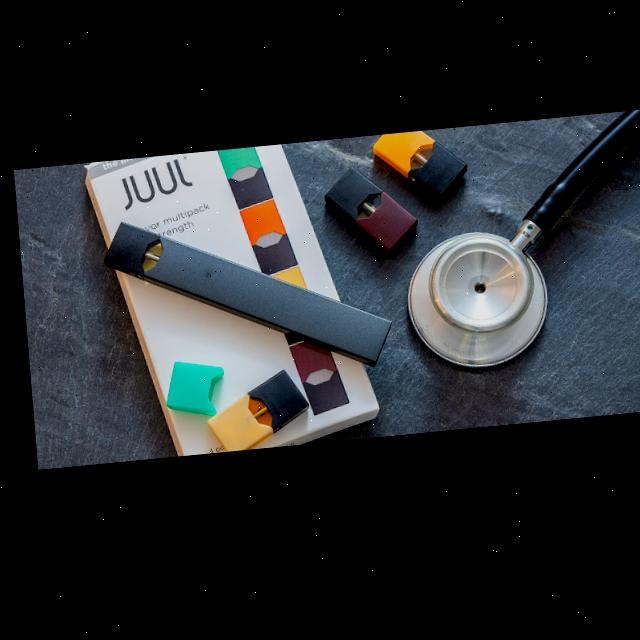vape: (96, 203, 389, 395)
